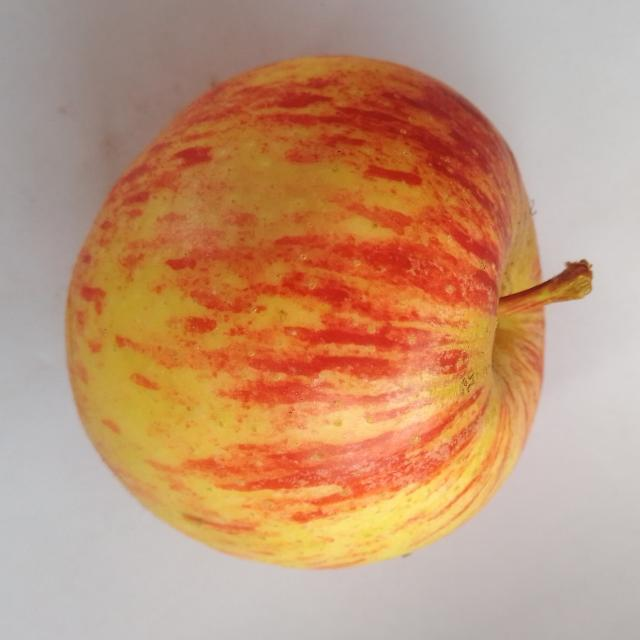Fresh Apple: (63, 45, 557, 573)
